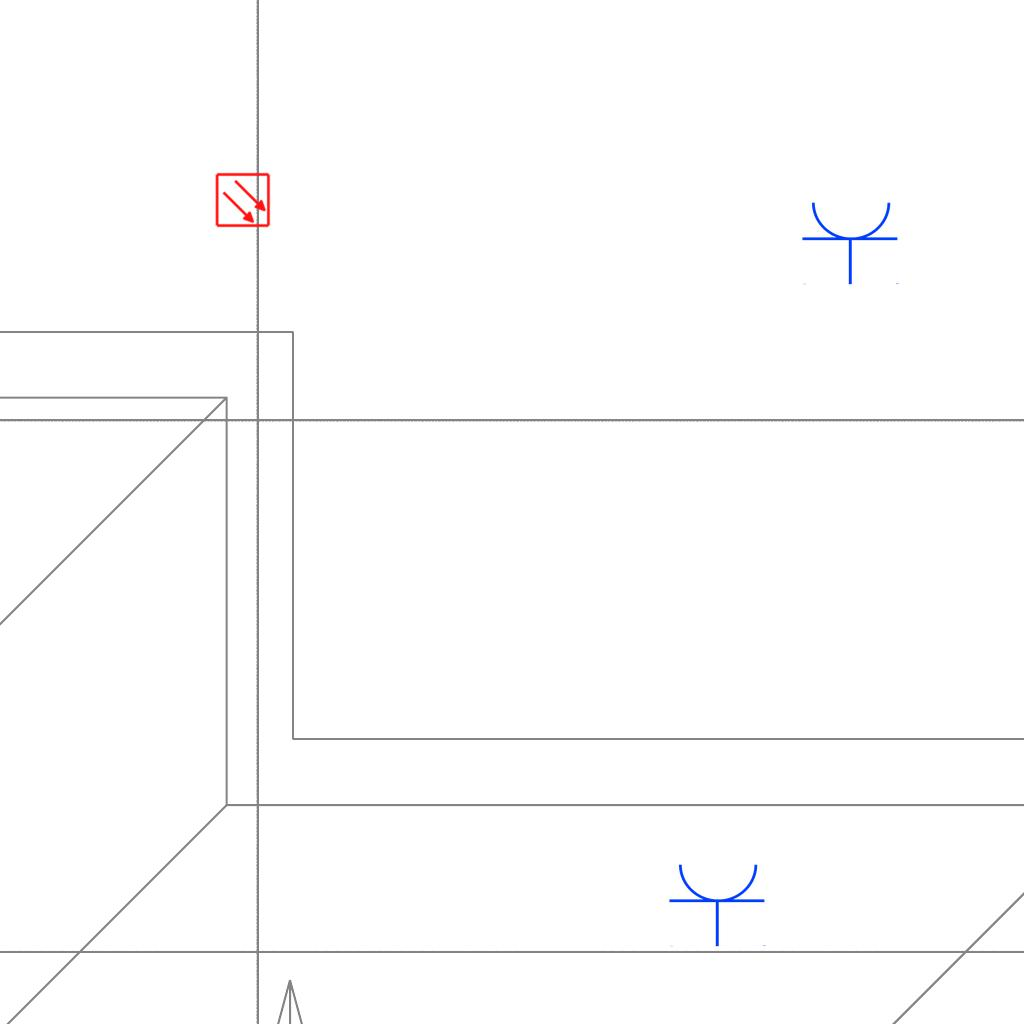RMO_Rauchmelder_optischer: (215, 172, 271, 228)
Schukosteckdose_einfach: (801, 198, 901, 285), (668, 860, 768, 947)
